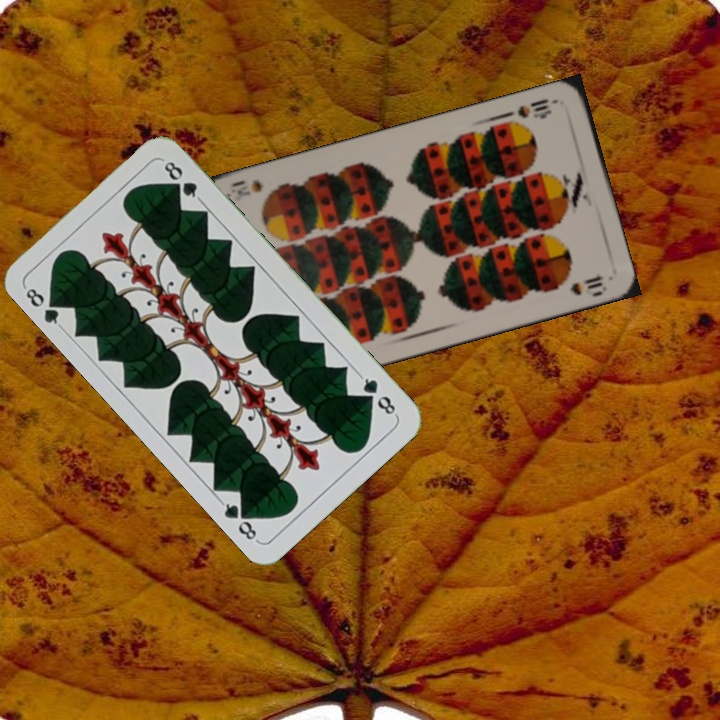G8: (20, 283, 66, 331), (355, 371, 400, 419)
S10: (513, 94, 560, 121)
